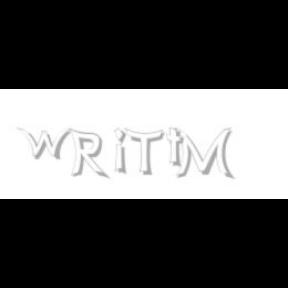M: (174, 128, 233, 180)
R: (69, 128, 107, 180)
T: (124, 128, 164, 176)
i: (114, 128, 130, 176)
t: (166, 128, 188, 168)
w: (18, 128, 76, 160)
